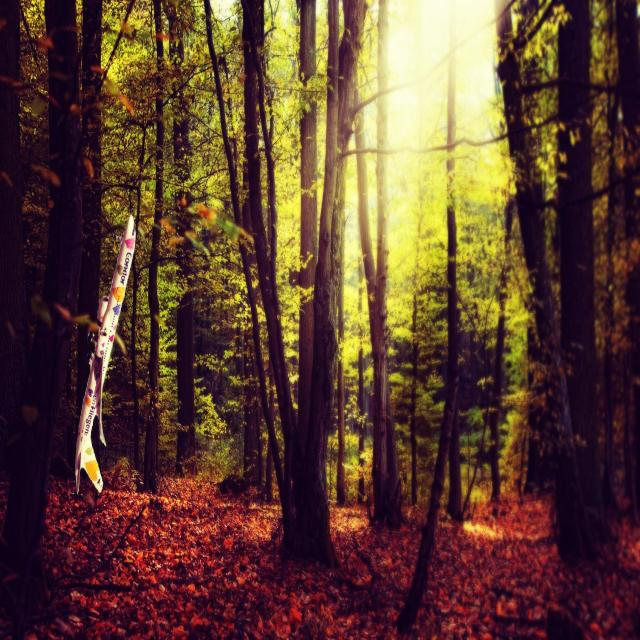airplane: (74, 214, 136, 496)
